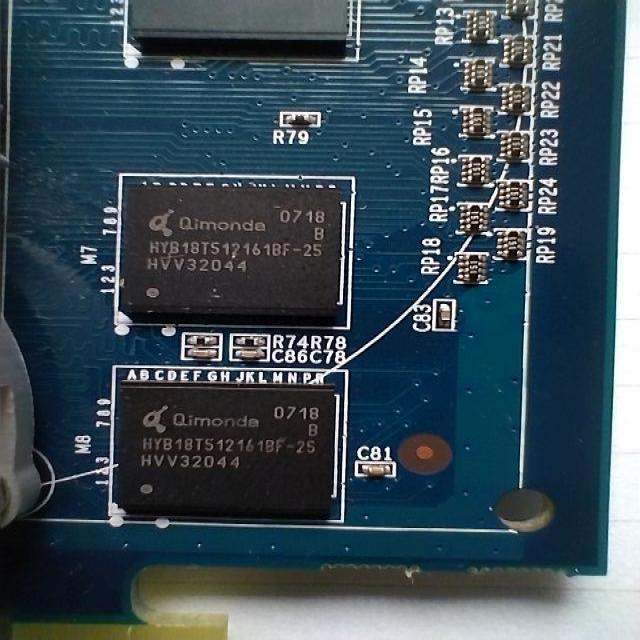capacitor: (356, 450, 400, 486)
